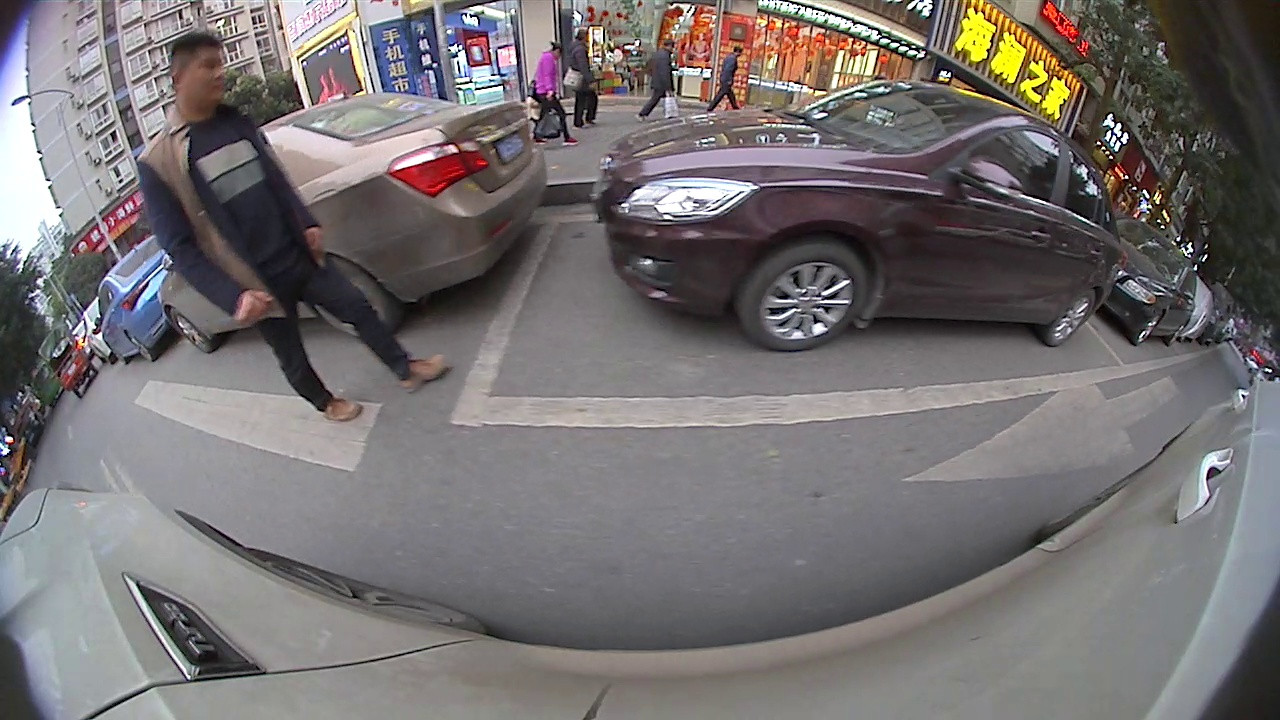car: (589, 75, 1130, 355), (156, 88, 550, 356), (1100, 211, 1200, 349), (95, 231, 179, 365)
front: (741, 241, 869, 352), (163, 311, 219, 355), (1131, 305, 1165, 344)
person: (145, 23, 451, 423), (568, 25, 600, 129), (541, 39, 570, 141), (657, 30, 681, 122), (722, 43, 745, 122)
rear: (1043, 282, 1103, 347)
